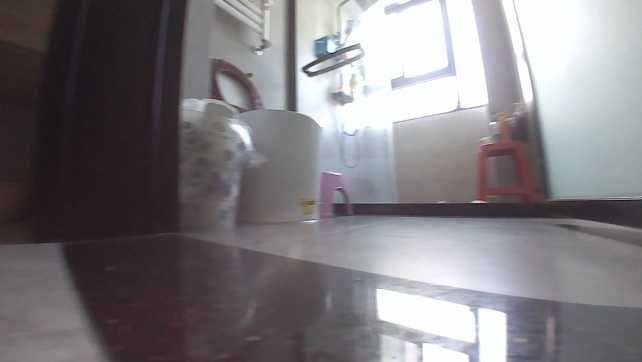door_sill: (334, 198, 557, 220)
plastic_stool: (470, 140, 541, 201), (320, 168, 354, 219)
toilet: (209, 56, 321, 222)
